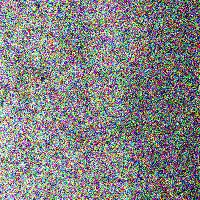crazing: (0, 22, 127, 110), (18, 112, 194, 163), (117, 145, 184, 187)
